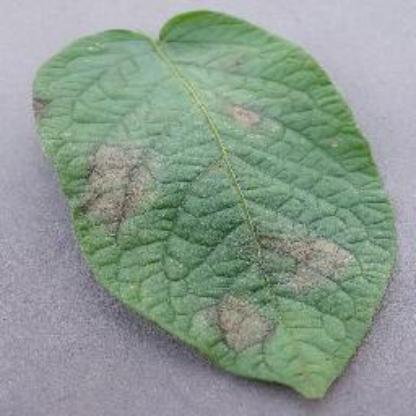Late-Blight: (36, 5, 412, 413)
